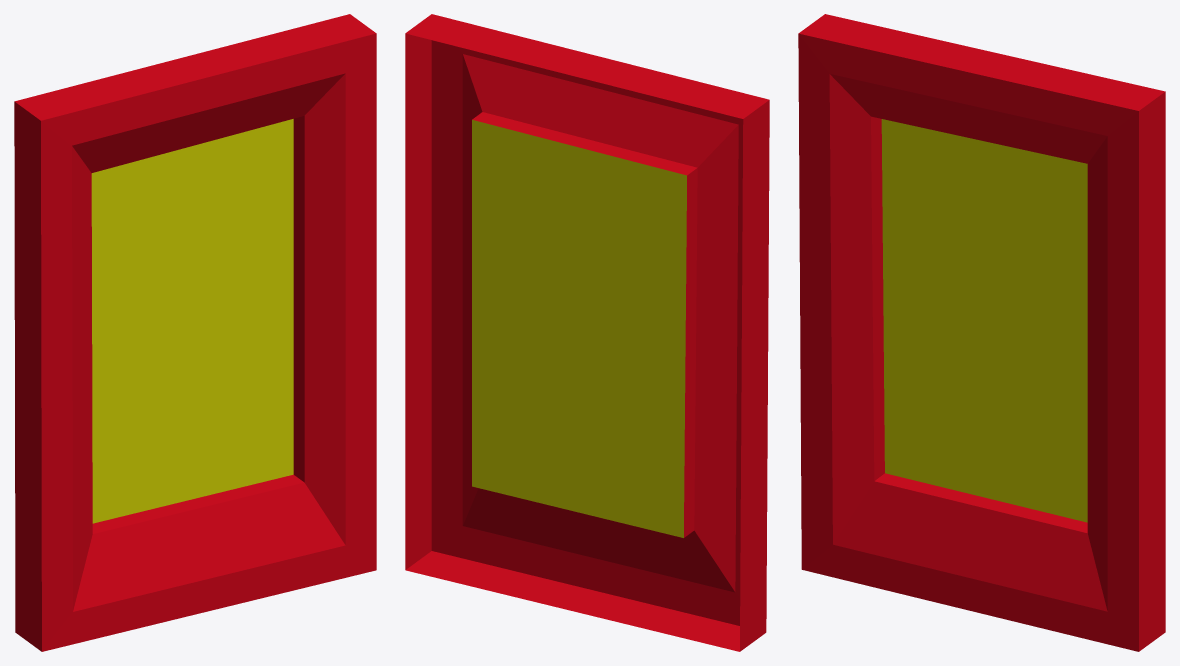
Rendered from Mesh_miroir_001.fbx.
The picture shows the model from 3 angles, left to right: view 1: azimuth 30°, elevation 25°; view 2: azimuth 150°, elevation 25°; view 3: azimuth 330°, elevation 25°; orthographic projection.
Visible parts, largest first — view 1: Mesh_miroir_001; view 2: Mesh_miroir_001; view 3: Mesh_miroir_001.
Part boxes in pixels (bbox=[...]): Mesh_miroir_001: bbox=[14, 14, 376, 651]; Mesh_miroir_001: bbox=[405, 14, 769, 651]; Mesh_miroir_001: bbox=[798, 14, 1165, 651].
Bounding box in the file's own units: 53.94 × 82.18 × 7.68.
